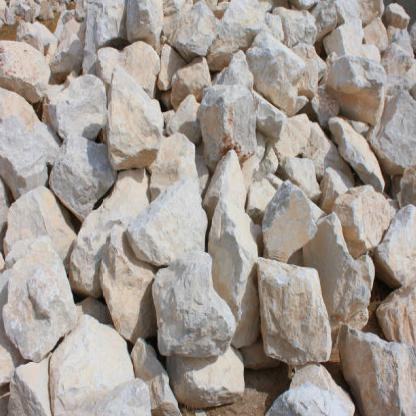Sedimentary_Limestone: (148, 256, 241, 361), (0, 230, 78, 353), (225, 32, 322, 124), (258, 256, 335, 370), (305, 199, 379, 315), (42, 323, 142, 404), (129, 171, 210, 262), (341, 309, 408, 415), (1, 90, 63, 203), (51, 124, 121, 220), (108, 62, 169, 171), (245, 178, 320, 259), (315, 106, 384, 186), (264, 356, 349, 415), (1, 35, 52, 113)
